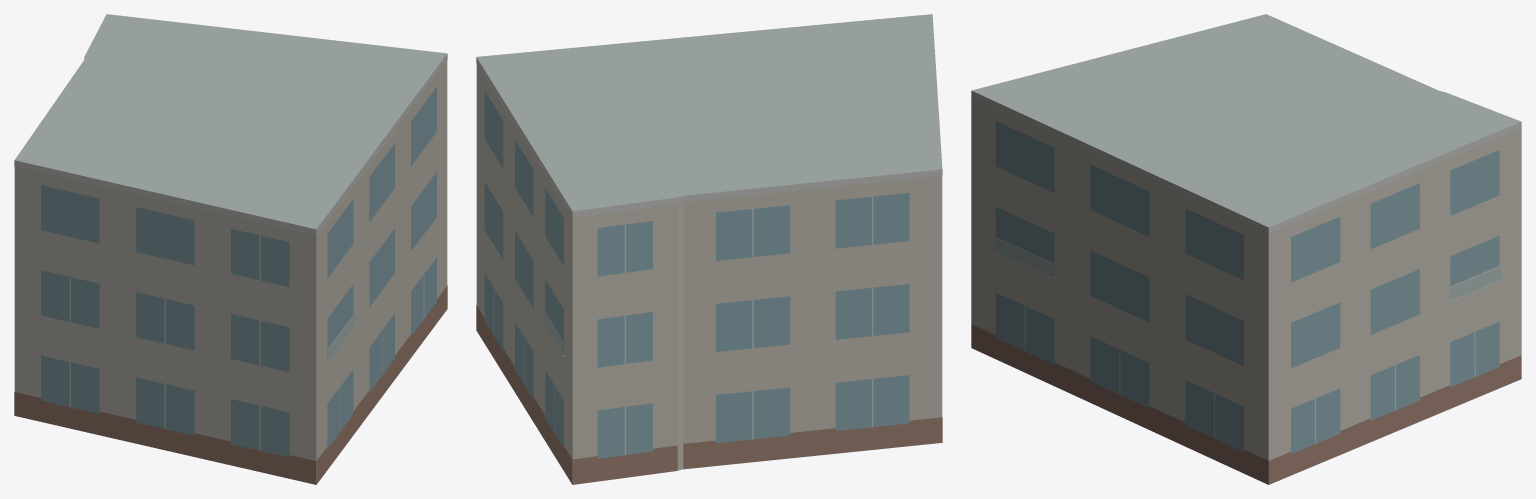
File: survey-upis-32949143.glb
The picture shows the model from 3 angles, left to right: view 1: azimuth 30°, elevation 25°; view 2: azimuth 150°, elevation 25°; view 3: azimuth 270°, elevation 25°; orthographic projection. The views are drawn at different scales.
Visible parts, largest first — view 1: survey-upis-32949143.tmp; view 2: survey-upis-32949143.tmp; view 3: survey-upis-32949143.tmp.
Boxes of the visible parts, <box> form: survey-upis-32949143.tmp: <box>14,14,447,484</box>; survey-upis-32949143.tmp: <box>476,14,942,484</box>; survey-upis-32949143.tmp: <box>971,14,1521,484</box>.
Bounding box in the file's own units: 18.15 × 10.2 × 19.77.
